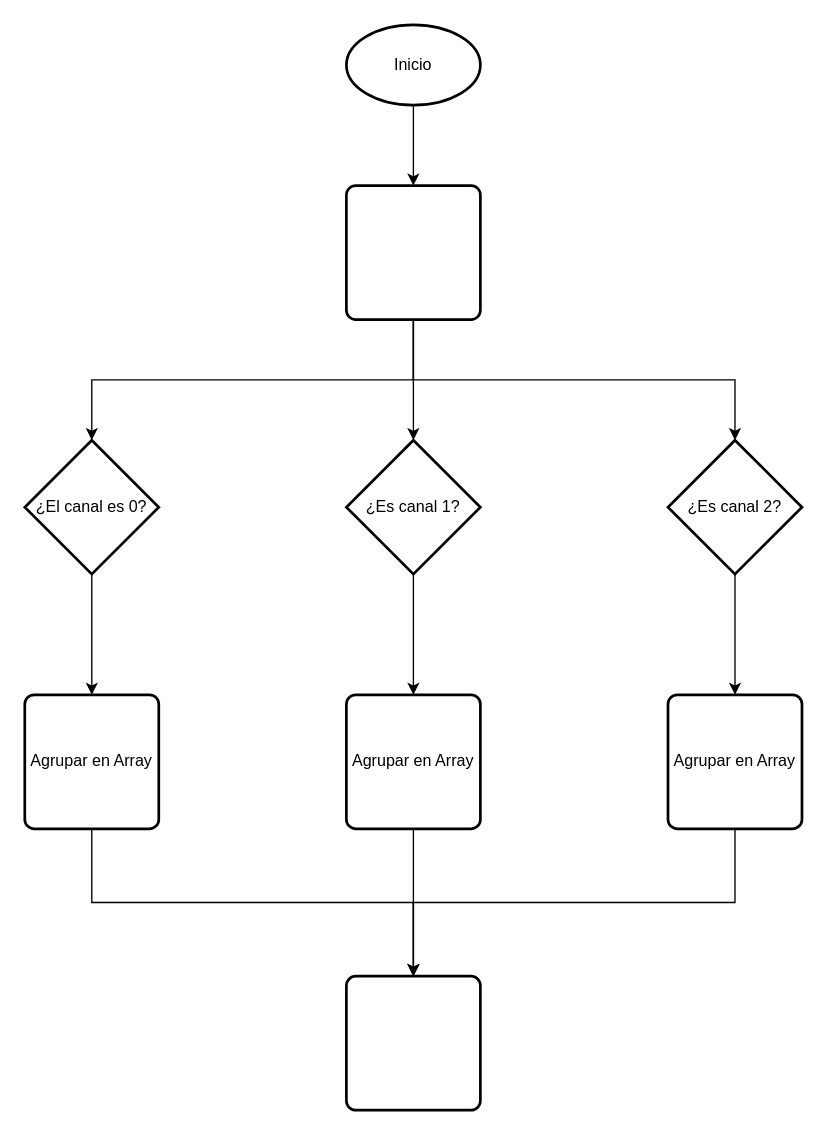
This 825x1134 diagram has some shape labels left out. The centre of each missing label's shape, as x and y in pixels:
"Graficar" goes at point (412, 1042).
"Leer archivo .BIN" goes at point (412, 252).
